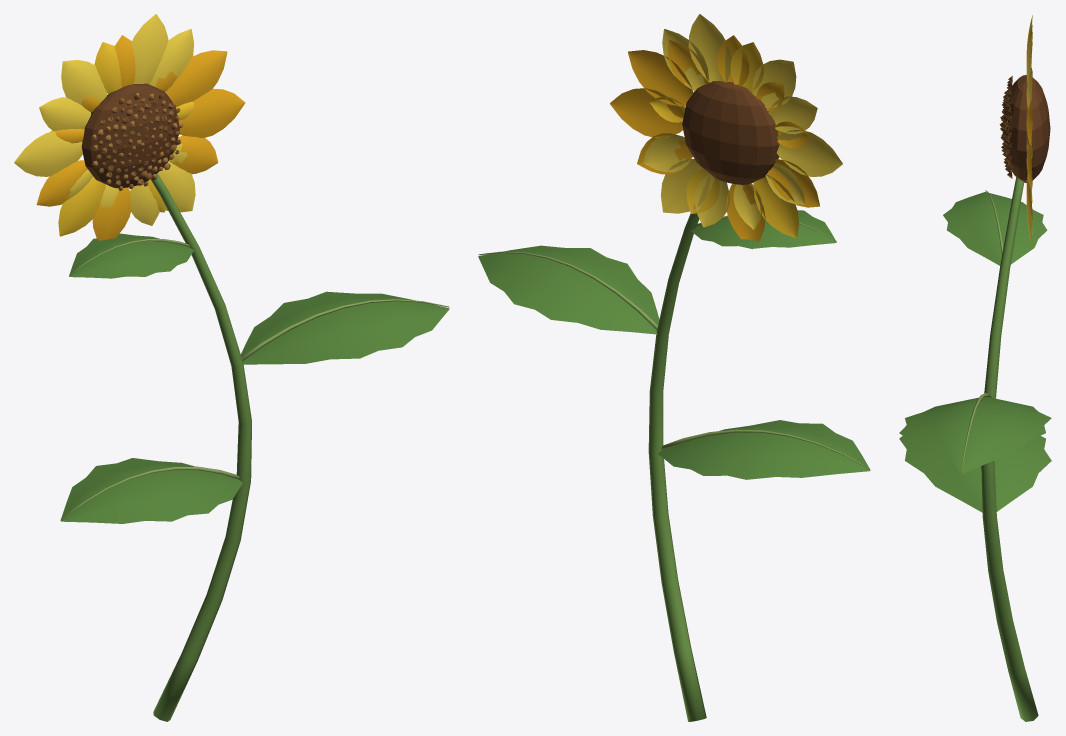
File: sunflower-test-bloom-3-1.glb
The picture shows the model from 3 angles, left to right: view 1: azimuth 30°, elevation 25°; view 2: azimuth 150°, elevation 25°; view 3: azimuth 270°, elevation 25°; orthographic projection. The views are drawn at different scales.
Parts seen in each view (by area): view 1: Curved tapered stem; view 2: Curved tapered stem; view 3: Curved tapered stem.
Boxes of the visible parts, box(x1,y1,x2,y2) form: Curved tapered stem: box(14, 14, 449, 721); Curved tapered stem: box(478, 14, 870, 721); Curved tapered stem: box(899, 15, 1051, 721).
Bounding box in the file's own units: 0.4256 × 0.7209 × 0.1462.
